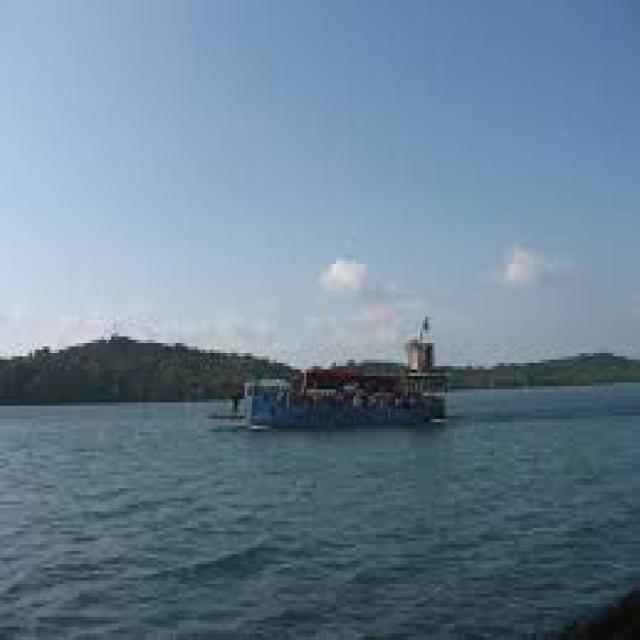fishing boat: (214, 301, 458, 437)
